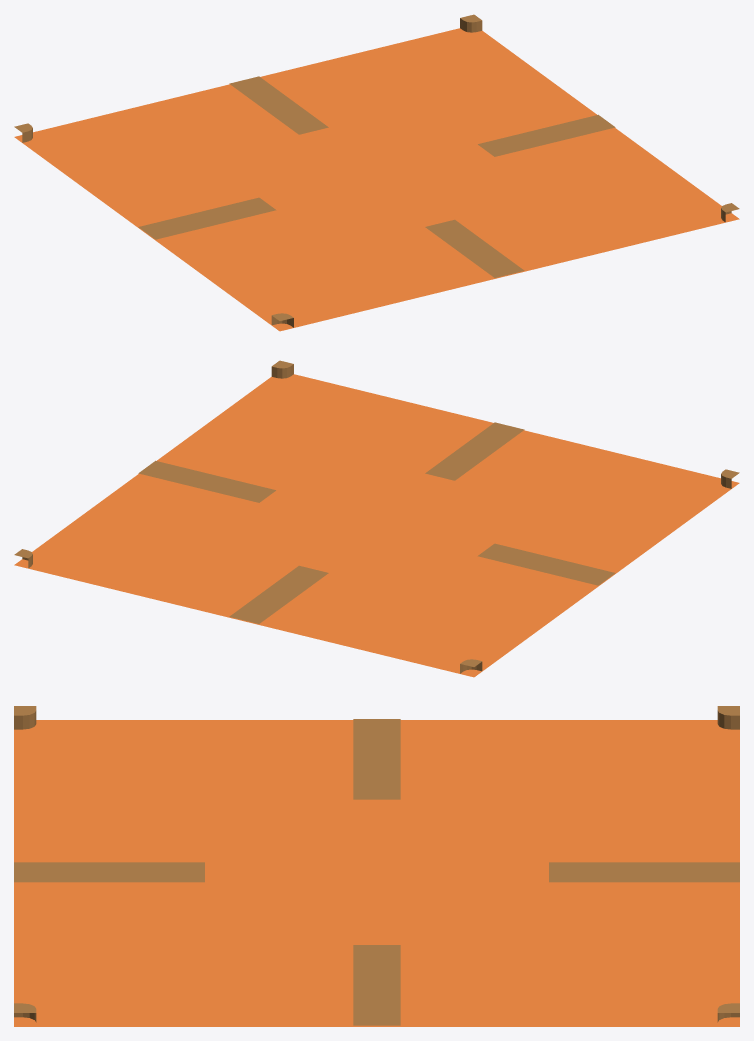
Rendered from Map-Road-cross.fbx.
3 views of the same model, one above another, from view 1: azimuth 30°, elevation 25°; view 2: azimuth 150°, elevation 25°; view 3: azimuth 270°, elevation 25° (orthographic). The views are drawn at different scales.
Visible parts, largest first — view 1: Map-Road-cross; view 2: Map-Road-cross; view 3: Map-Road-cross.
Part boxes in pixels (box(x1,y1,x2,y2)): Map-Road-cross: box(14, 14, 739, 331); Map-Road-cross: box(14, 360, 739, 677); Map-Road-cross: box(14, 706, 739, 1026).
Bounding box in the file's own units: 2 × 0.0423 × 2.
